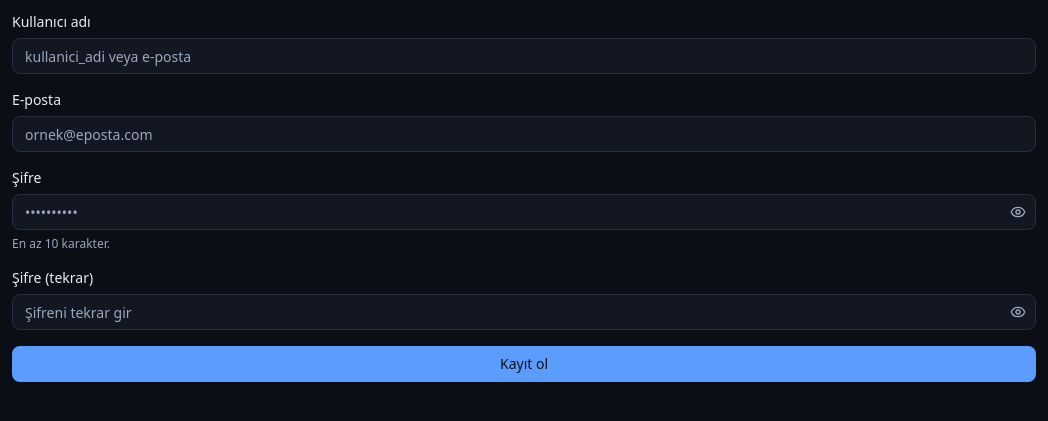
RegisterForm › şifre uyuşmazlığında doğrulama hatası gösterir ve istek atmaz
Step 1. Type "efe" into the field labelled "Kullanıcı adı" → {"x": 524, "y": 56}, box [12,38,1036,74]
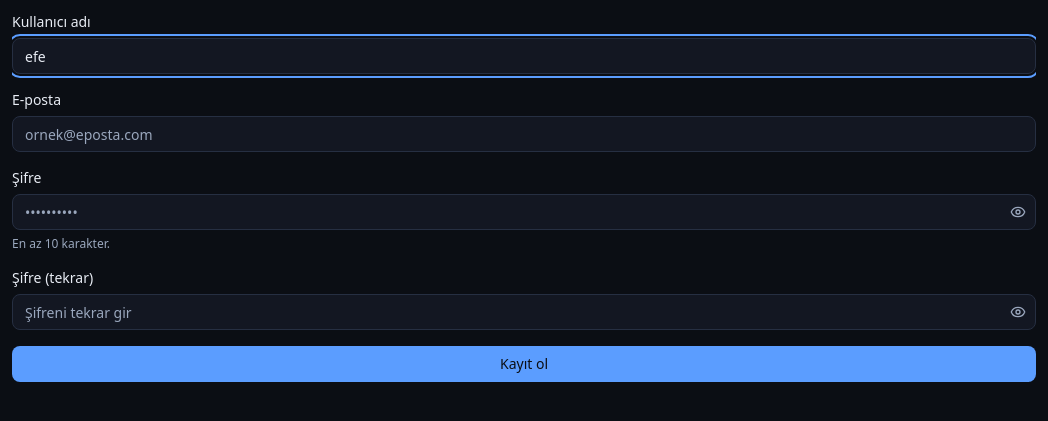
Step 2. Type "efe@example.com" into the field labelled "E-posta" → {"x": 524, "y": 134}, box [12,116,1036,152]
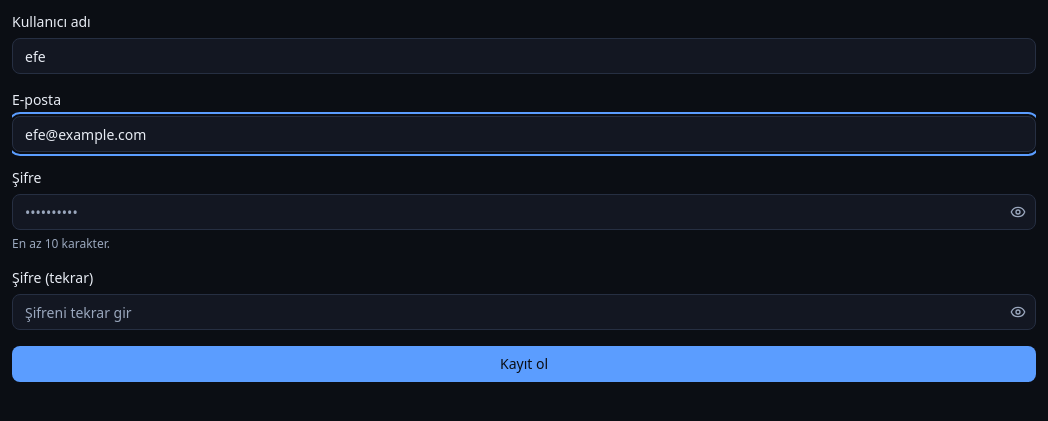
Step 3. Type "0123456789" into the password field labelled "Şifre" → {"x": 524, "y": 212}, box [12,194,1036,230]
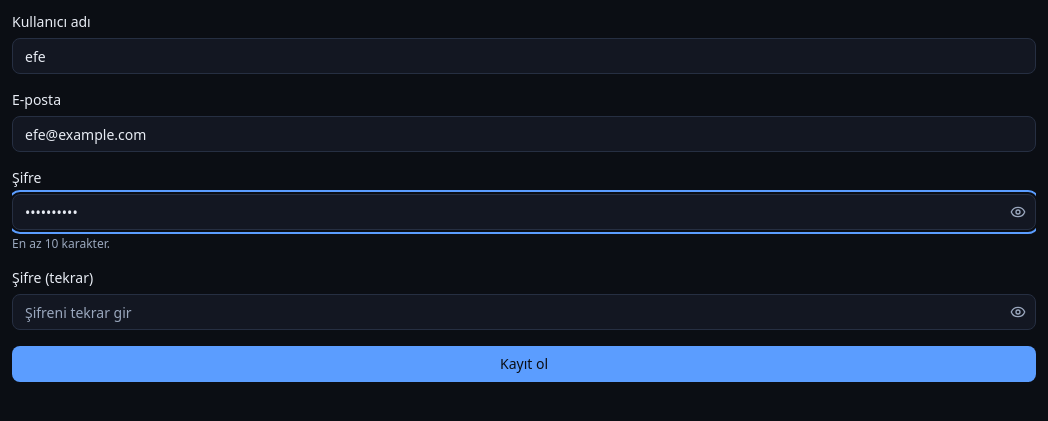
Step 4. Type "9876543210" into the password field labelled "Şifre (tekrar)" → {"x": 524, "y": 312}, box [12,294,1036,330]
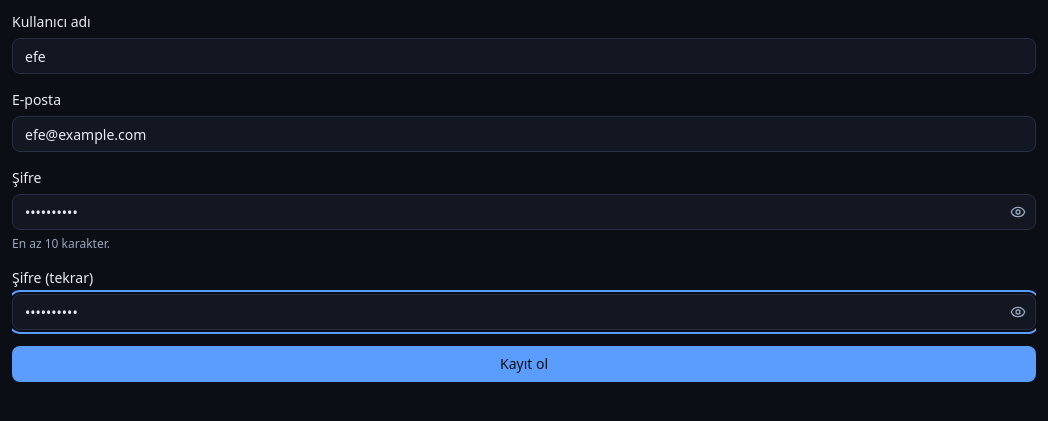
Step 5. Click the button "Kayıt ol" → {"x": 524, "y": 364}, box [12,346,1036,382]
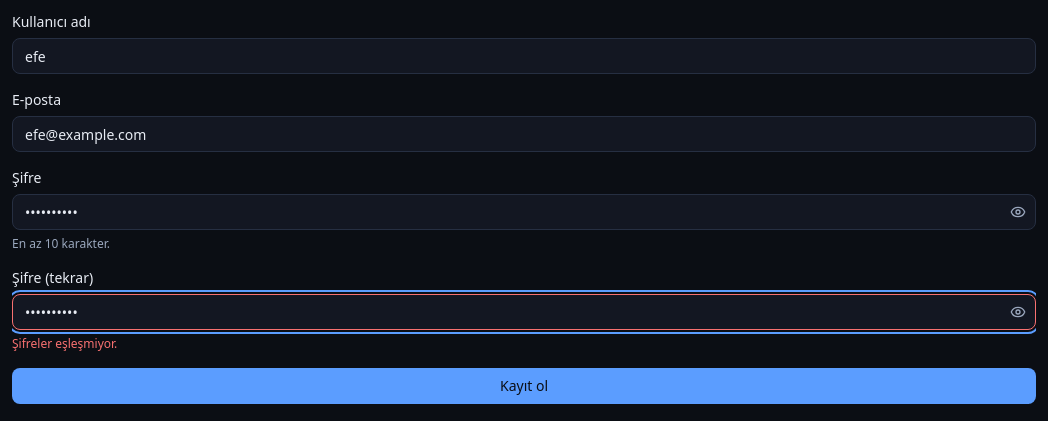
Expected: the text "Şifreler eşleşmiyor." is shown, [12,335,117,352]
